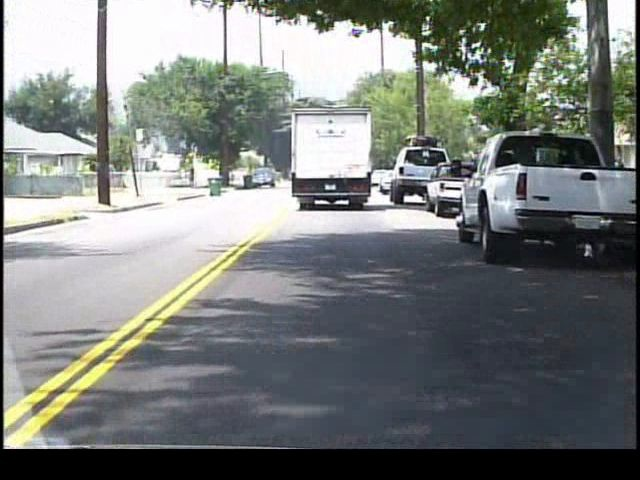person: (608, 155, 621, 199), (613, 156, 624, 204), (188, 163, 198, 187)
